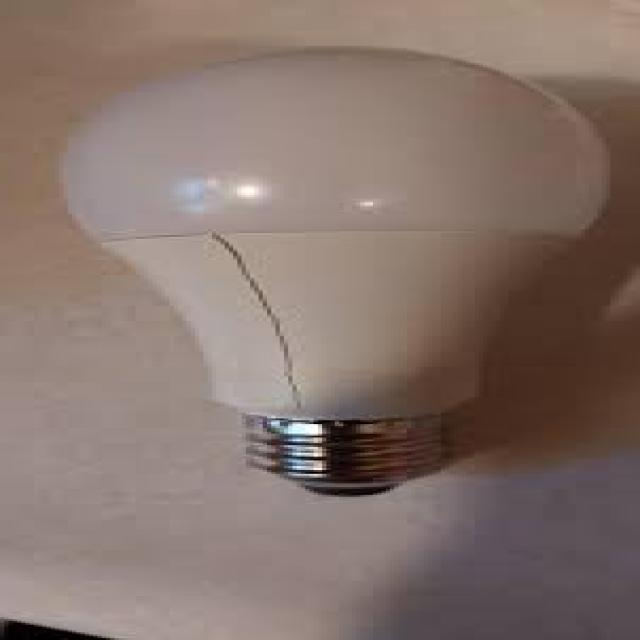bulb: (6, 54, 580, 501)
